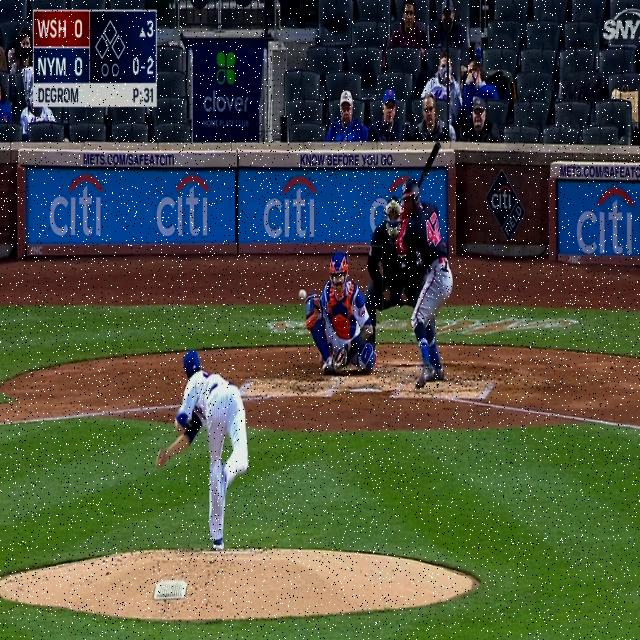baseball: (299, 288, 307, 300)
